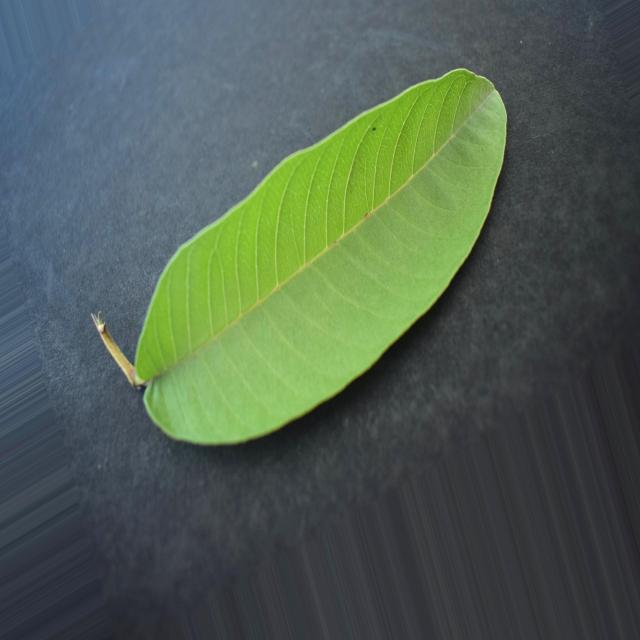Healthy: (92, 69, 506, 444)
